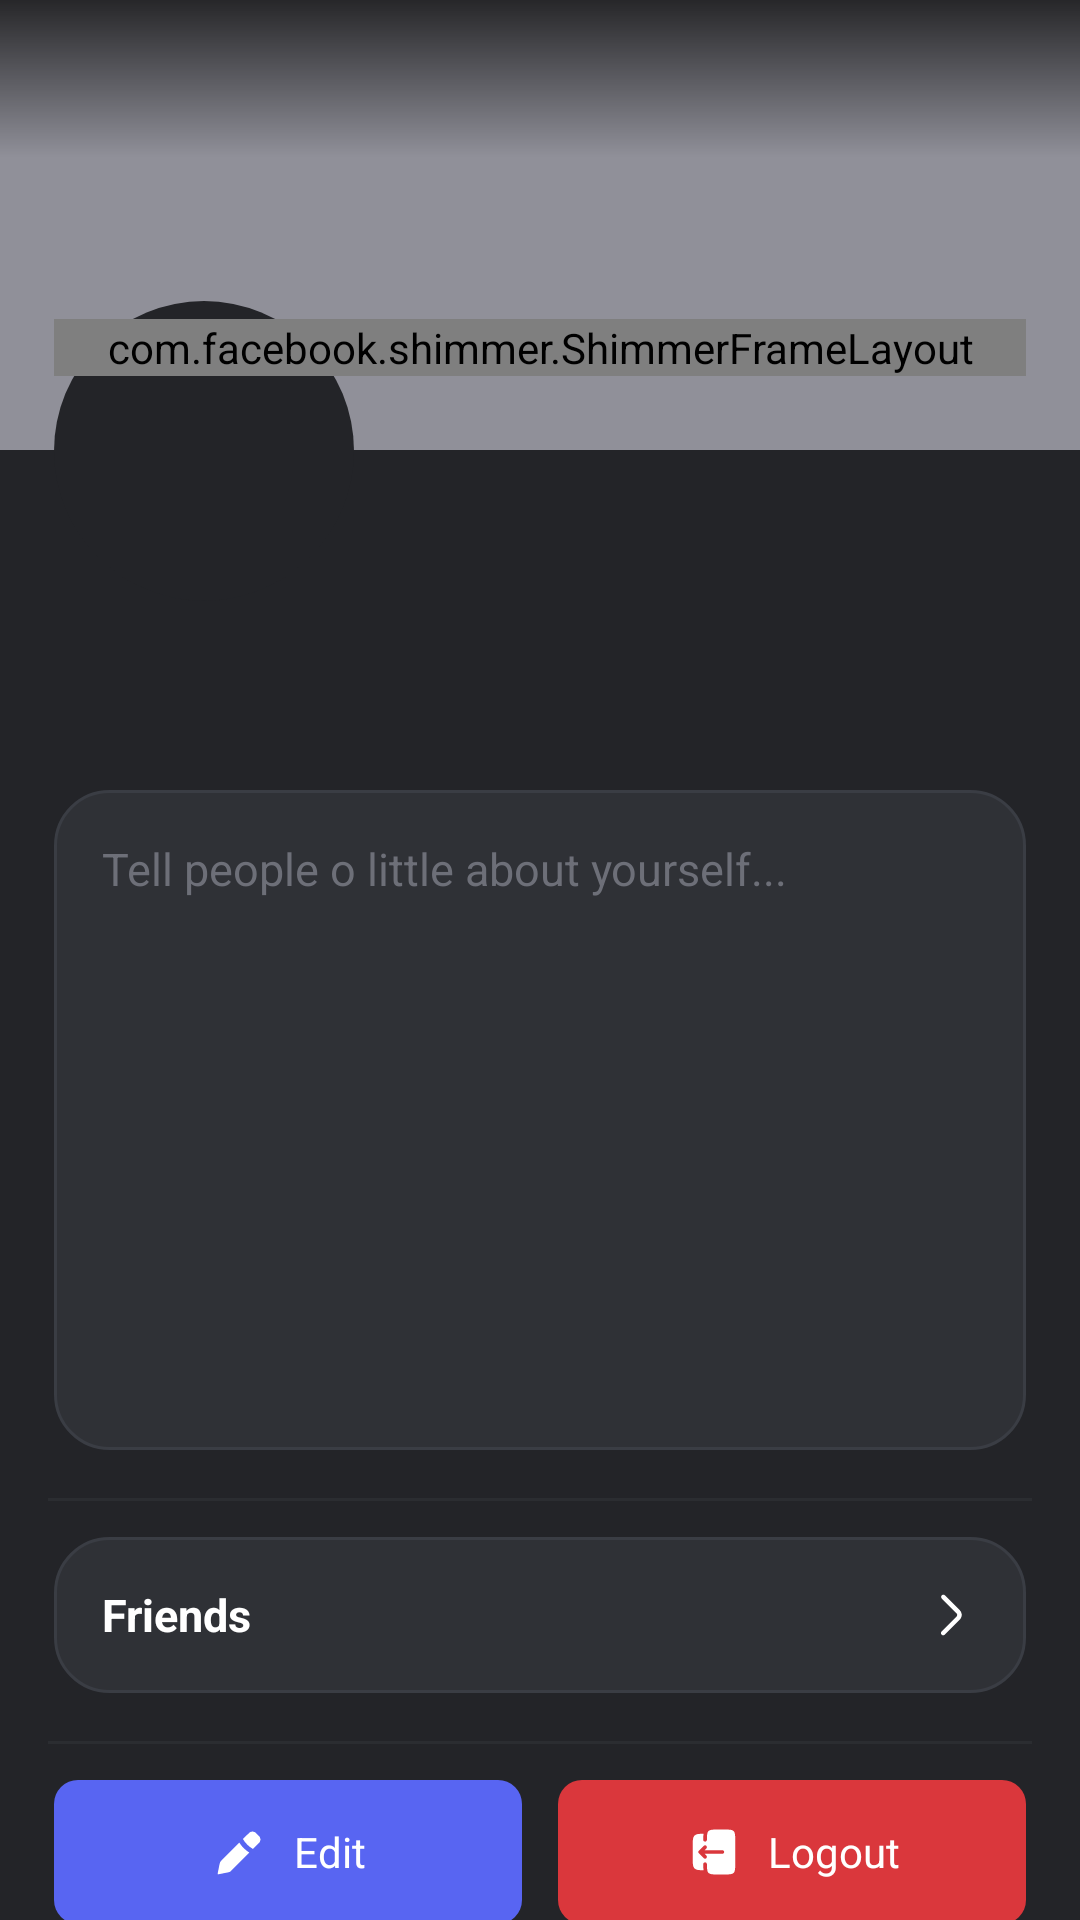

Named icons in this screenshot (1080x1920) and their bounding boxes, (x1=x1, y1=y1, x2=x2, y2=y2):
arrow: (x1=941, y1=1594, x2=962, y2=1636)
